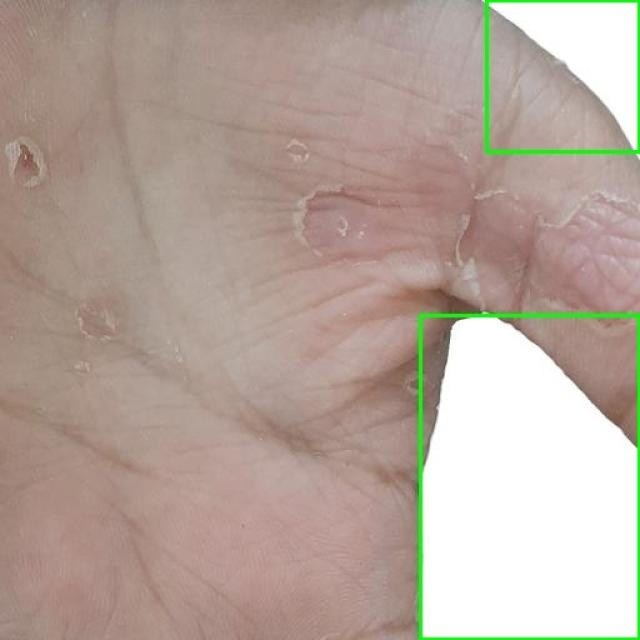Scabies: (420, 315, 639, 639), (486, 0, 639, 152)
